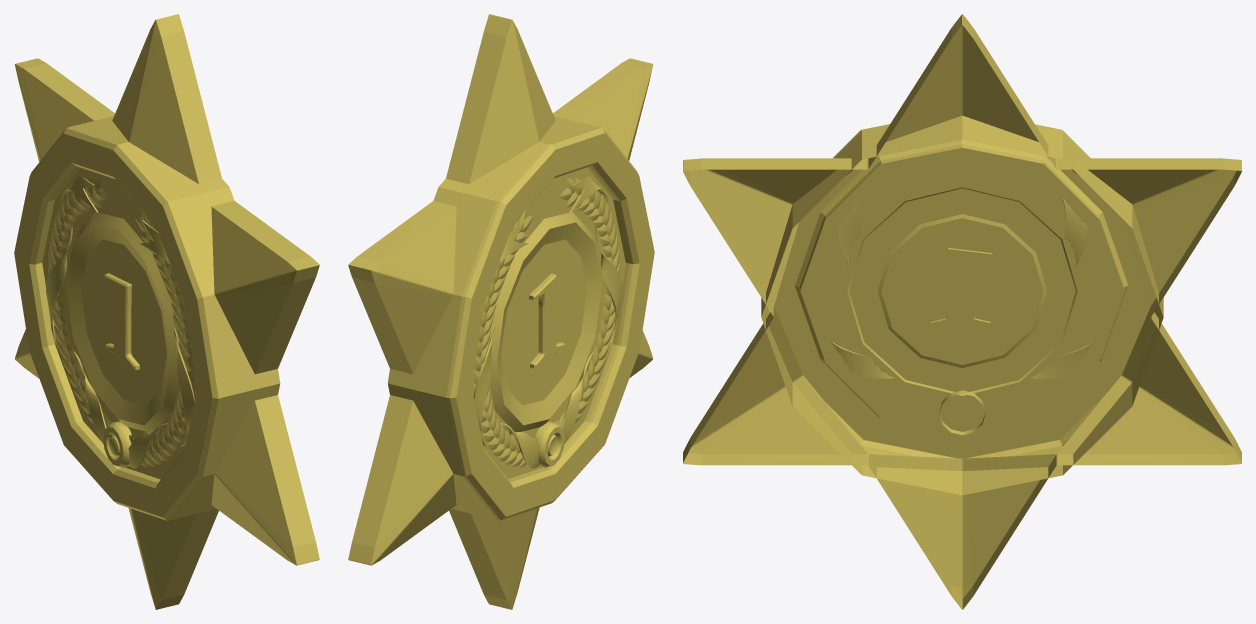
The model's file is GoldenMedal3D.fbx.
3 views of the same model, side by side, from view 1: azimuth 30°, elevation 25°; view 2: azimuth 150°, elevation 25°; view 3: azimuth 270°, elevation 25° (orthographic).
Visible parts, largest first — view 1: Star001, Cylinder213, Plane004, Plane005, Text001, Cylinder212; view 2: Star001, Cylinder213, Plane005, Plane004, Text001, Cylinder212; view 3: Star001, Cylinder213, Text001, Plane005, Plane004.
Boxes of the visible parts, box(x1,y1,x2,y2) form: Star001: box(14, 14, 319, 609); Cylinder213: box(66, 212, 178, 431); Plane004: box(45, 176, 112, 444); Plane005: box(128, 209, 194, 468); Text001: box(104, 273, 139, 369); Cylinder212: box(103, 421, 133, 467); Star001: box(348, 14, 654, 609); Cylinder213: box(489, 212, 601, 431); Plane005: box(555, 176, 622, 444); Plane004: box(473, 209, 539, 468); Text001: box(529, 273, 564, 368); Cylinder212: box(534, 421, 564, 467); Star001: box(683, 14, 1241, 609); Cylinder213: box(847, 187, 1077, 395); Text001: box(930, 248, 992, 326); Plane005: box(830, 197, 895, 378); Plane004: box(1029, 197, 1094, 378).
Size of the model in its own units: 27.53 by 236 by 204.
